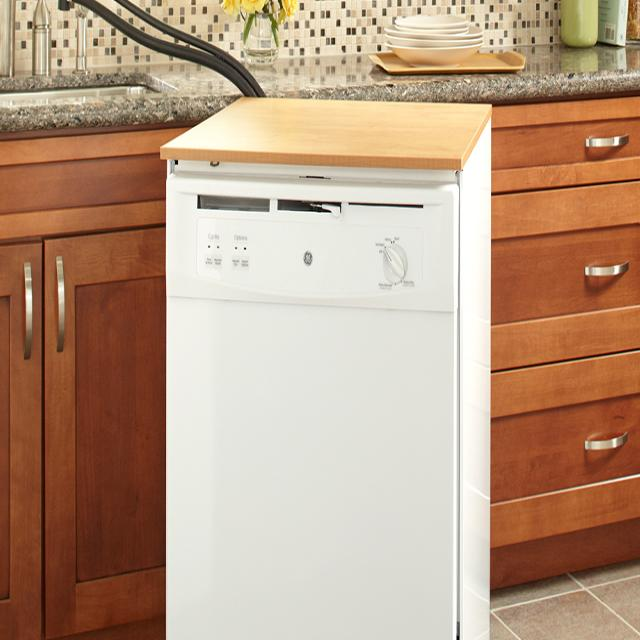dishwasher: (162, 127, 467, 640)
